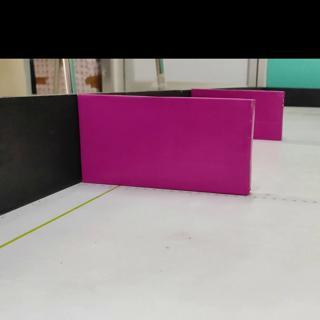xparking: (80, 95, 253, 194), (257, 90, 282, 140)
